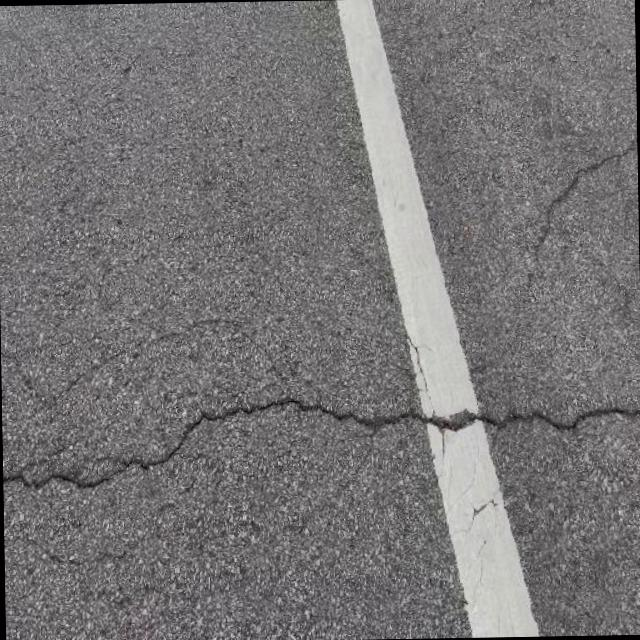Retak-Melintang: (3, 393, 637, 496)
Retak-Memanjang: (523, 132, 632, 288)
